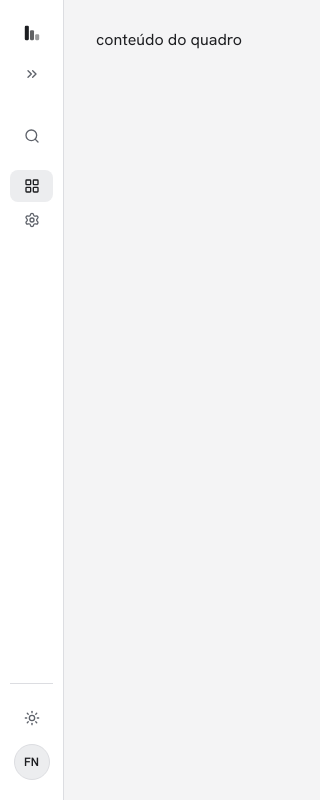
Test case: AppShell › abre Configurações pelo menu da conta
Click the button with aria-label "Menu da conta de Fernando": (32, 762) [14, 744, 50, 780]
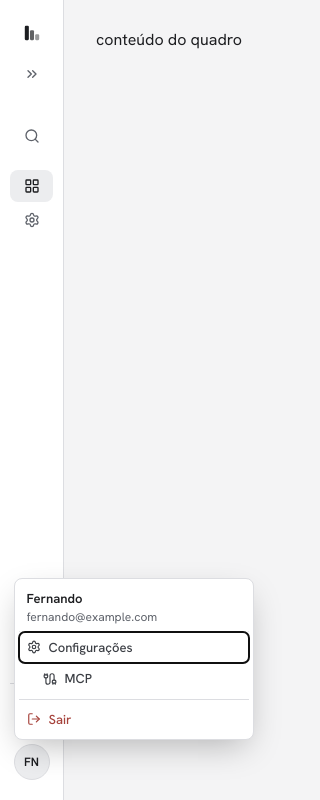
Click the menu item "Configurações": (134, 647) [18, 632, 248, 663]
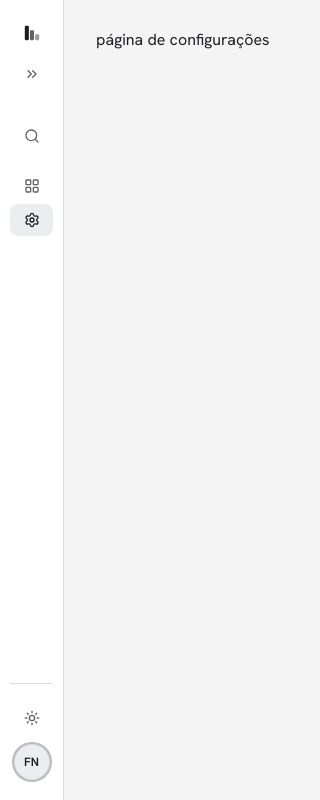
Expected: the text "página de configurações" is shown, [96, 29, 270, 50]
